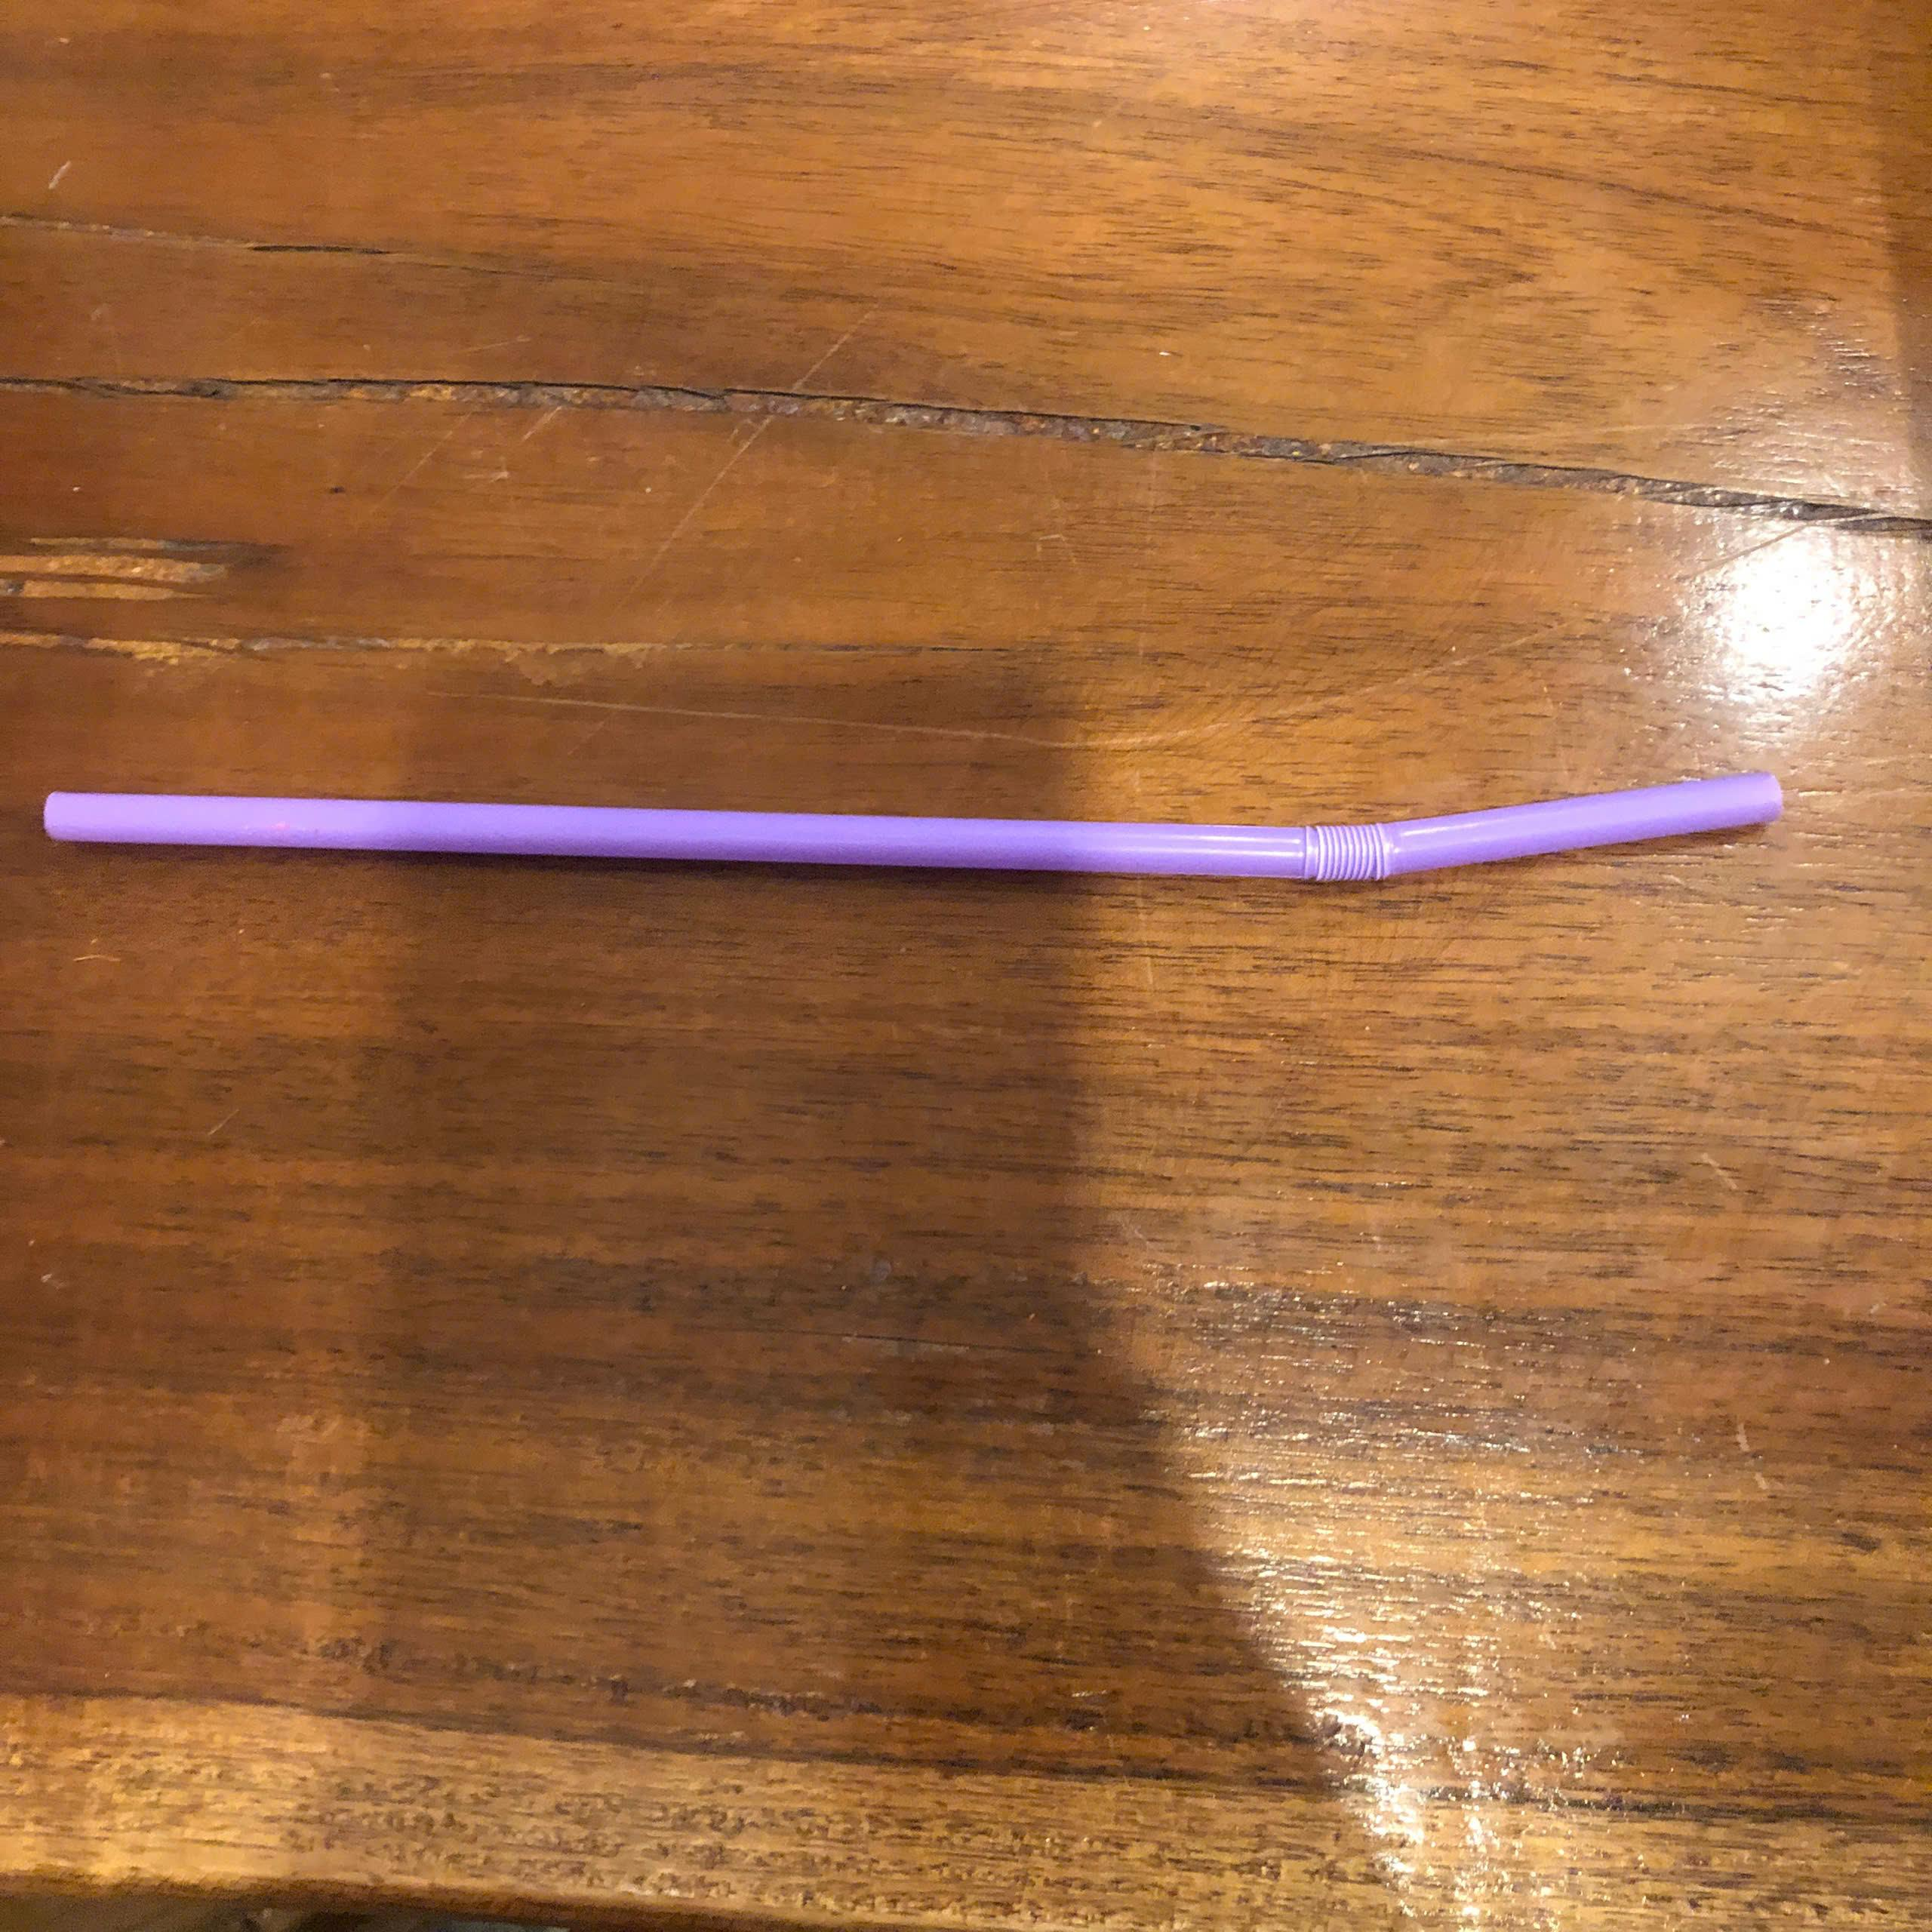Vo co: (46, 775, 1790, 890)
